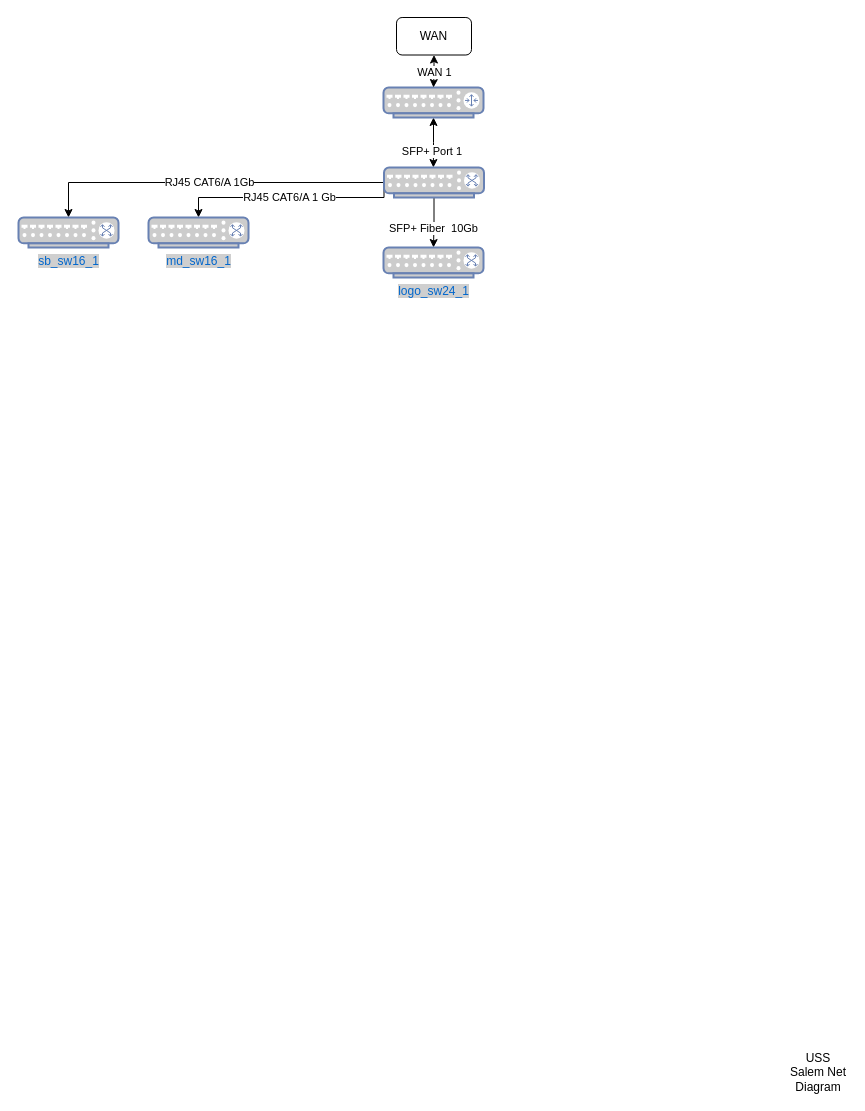
This 865x1111 diagram has some shape labels left out. Here are the shapes that lost their labels. From the top down, the box of each, then its label:
(382, 86, 484, 118): Netgear Router
(382, 166, 484, 198): ito_sw48_1
